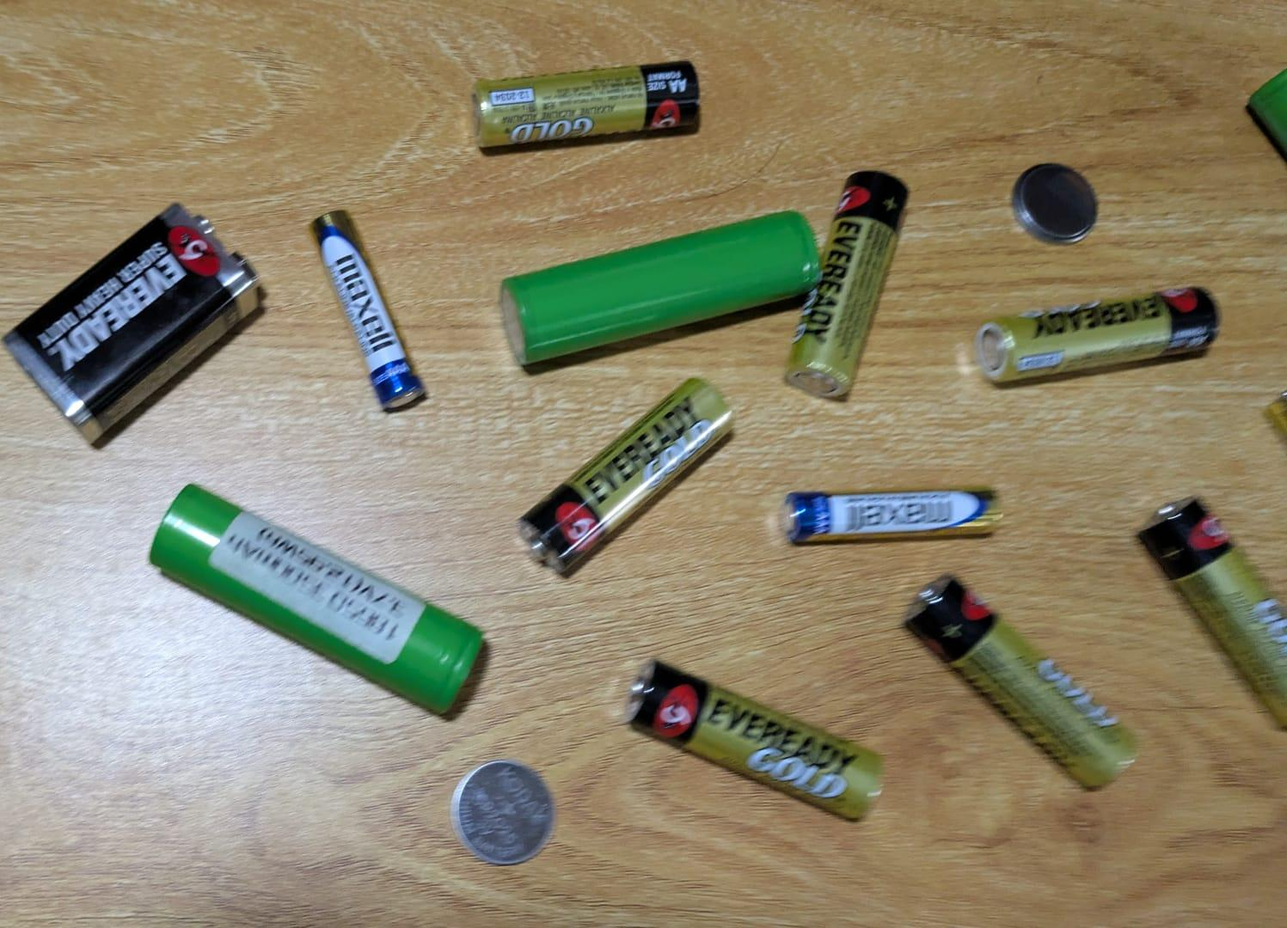9V: (1, 203, 267, 447)
AA: (898, 572, 1141, 791), (515, 374, 735, 577), (623, 657, 883, 822), (1135, 495, 1287, 744), (784, 172, 911, 401), (970, 282, 1221, 383), (468, 60, 702, 153)
AAA: (310, 205, 432, 413), (779, 485, 1003, 541)
COIN: (450, 758, 557, 865), (1007, 161, 1102, 248)
